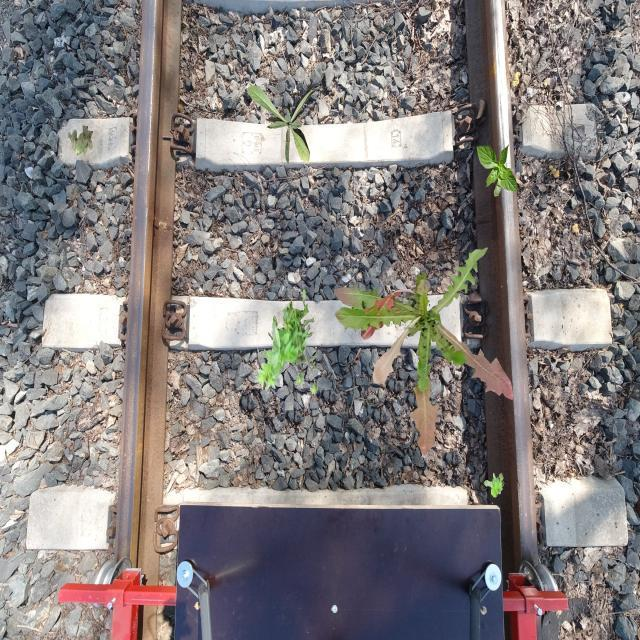Plant: (334, 248, 514, 457), (255, 289, 320, 396), (247, 84, 318, 165), (476, 143, 518, 197), (68, 126, 94, 158), (484, 473, 504, 498)
